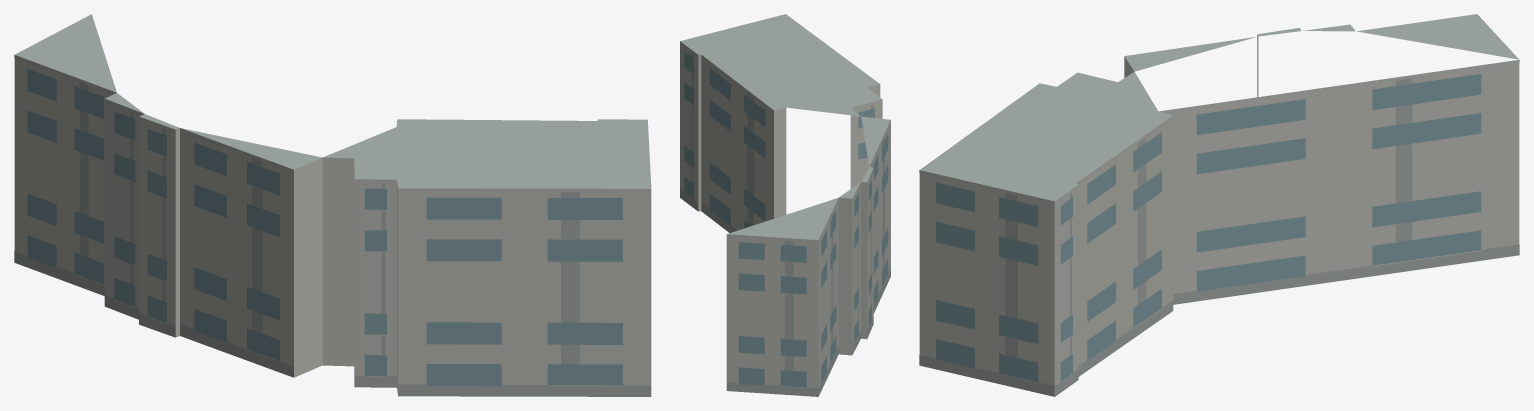
Rendered from survey-upis-32996843.glb.
3 renders of one model, left to right at view 1: azimuth 30°, elevation 25°; view 2: azimuth 150°, elevation 25°; view 3: azimuth 270°, elevation 25°, orthographic. The views are drawn at different scales.
Parts seen in each view (by area): view 1: survey-upis-32996843.tmp; view 2: survey-upis-32996843.tmp; view 3: survey-upis-32996843.tmp.
Boxes of the visible parts, <box> form: survey-upis-32996843.tmp: <box>14,14,651,396</box>; survey-upis-32996843.tmp: <box>680,14,890,396</box>; survey-upis-32996843.tmp: <box>919,14,1519,396</box>.
Bounding box in the file's own units: 30.43 × 14.8 × 41.17.
